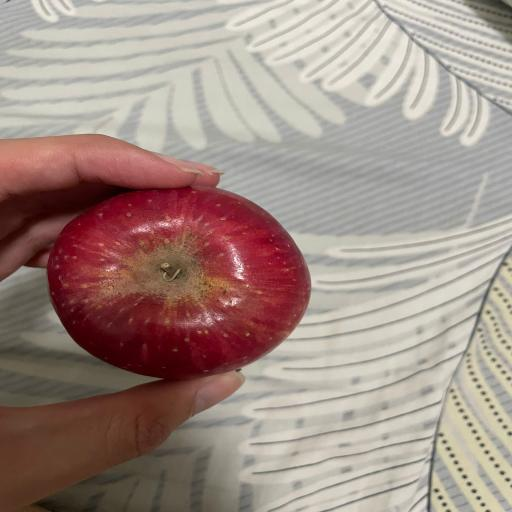apple: (47, 185, 311, 380)
